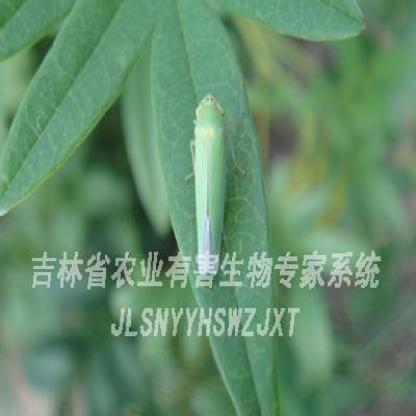Green-Leafhopper: (185, 87, 241, 276)
